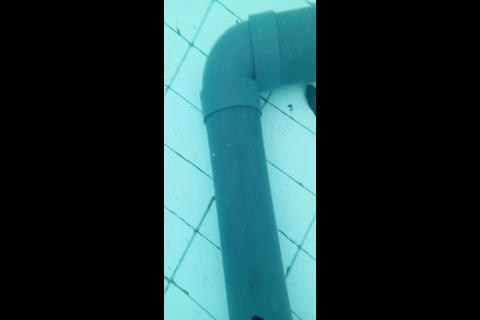kebocoran: (251, 314, 265, 320)
